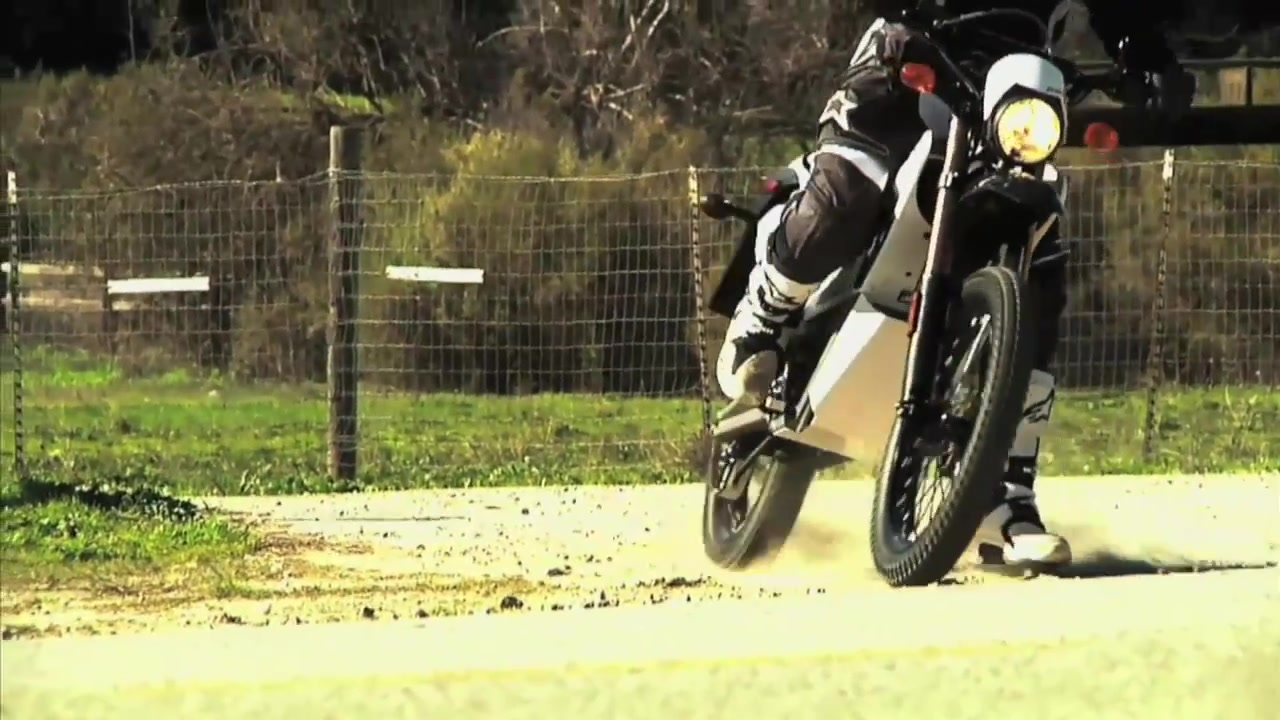motorbike: (700, 5, 1205, 589)
